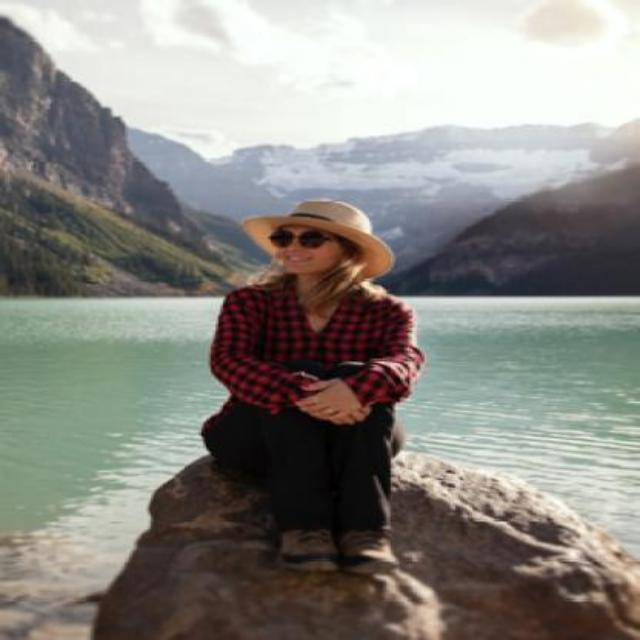glasses: (266, 230, 338, 250)
